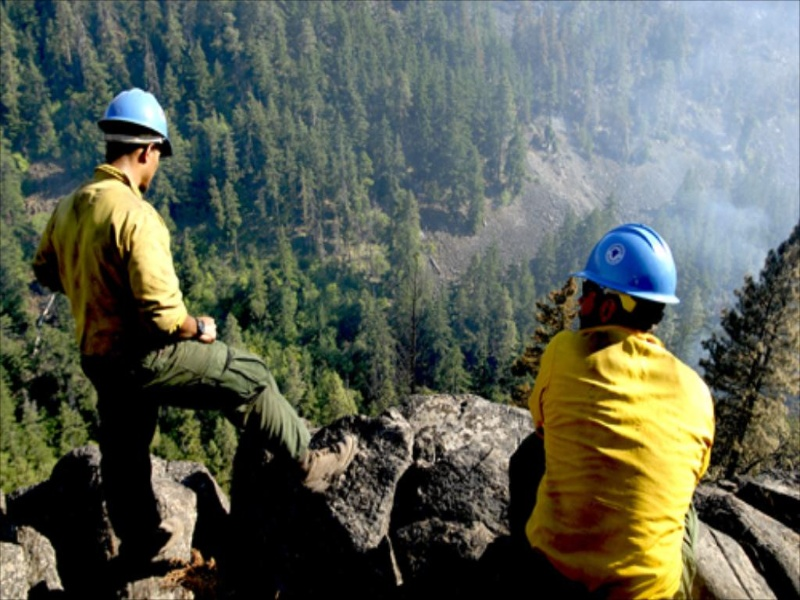baret: (577, 222, 682, 312), (100, 87, 176, 159)
